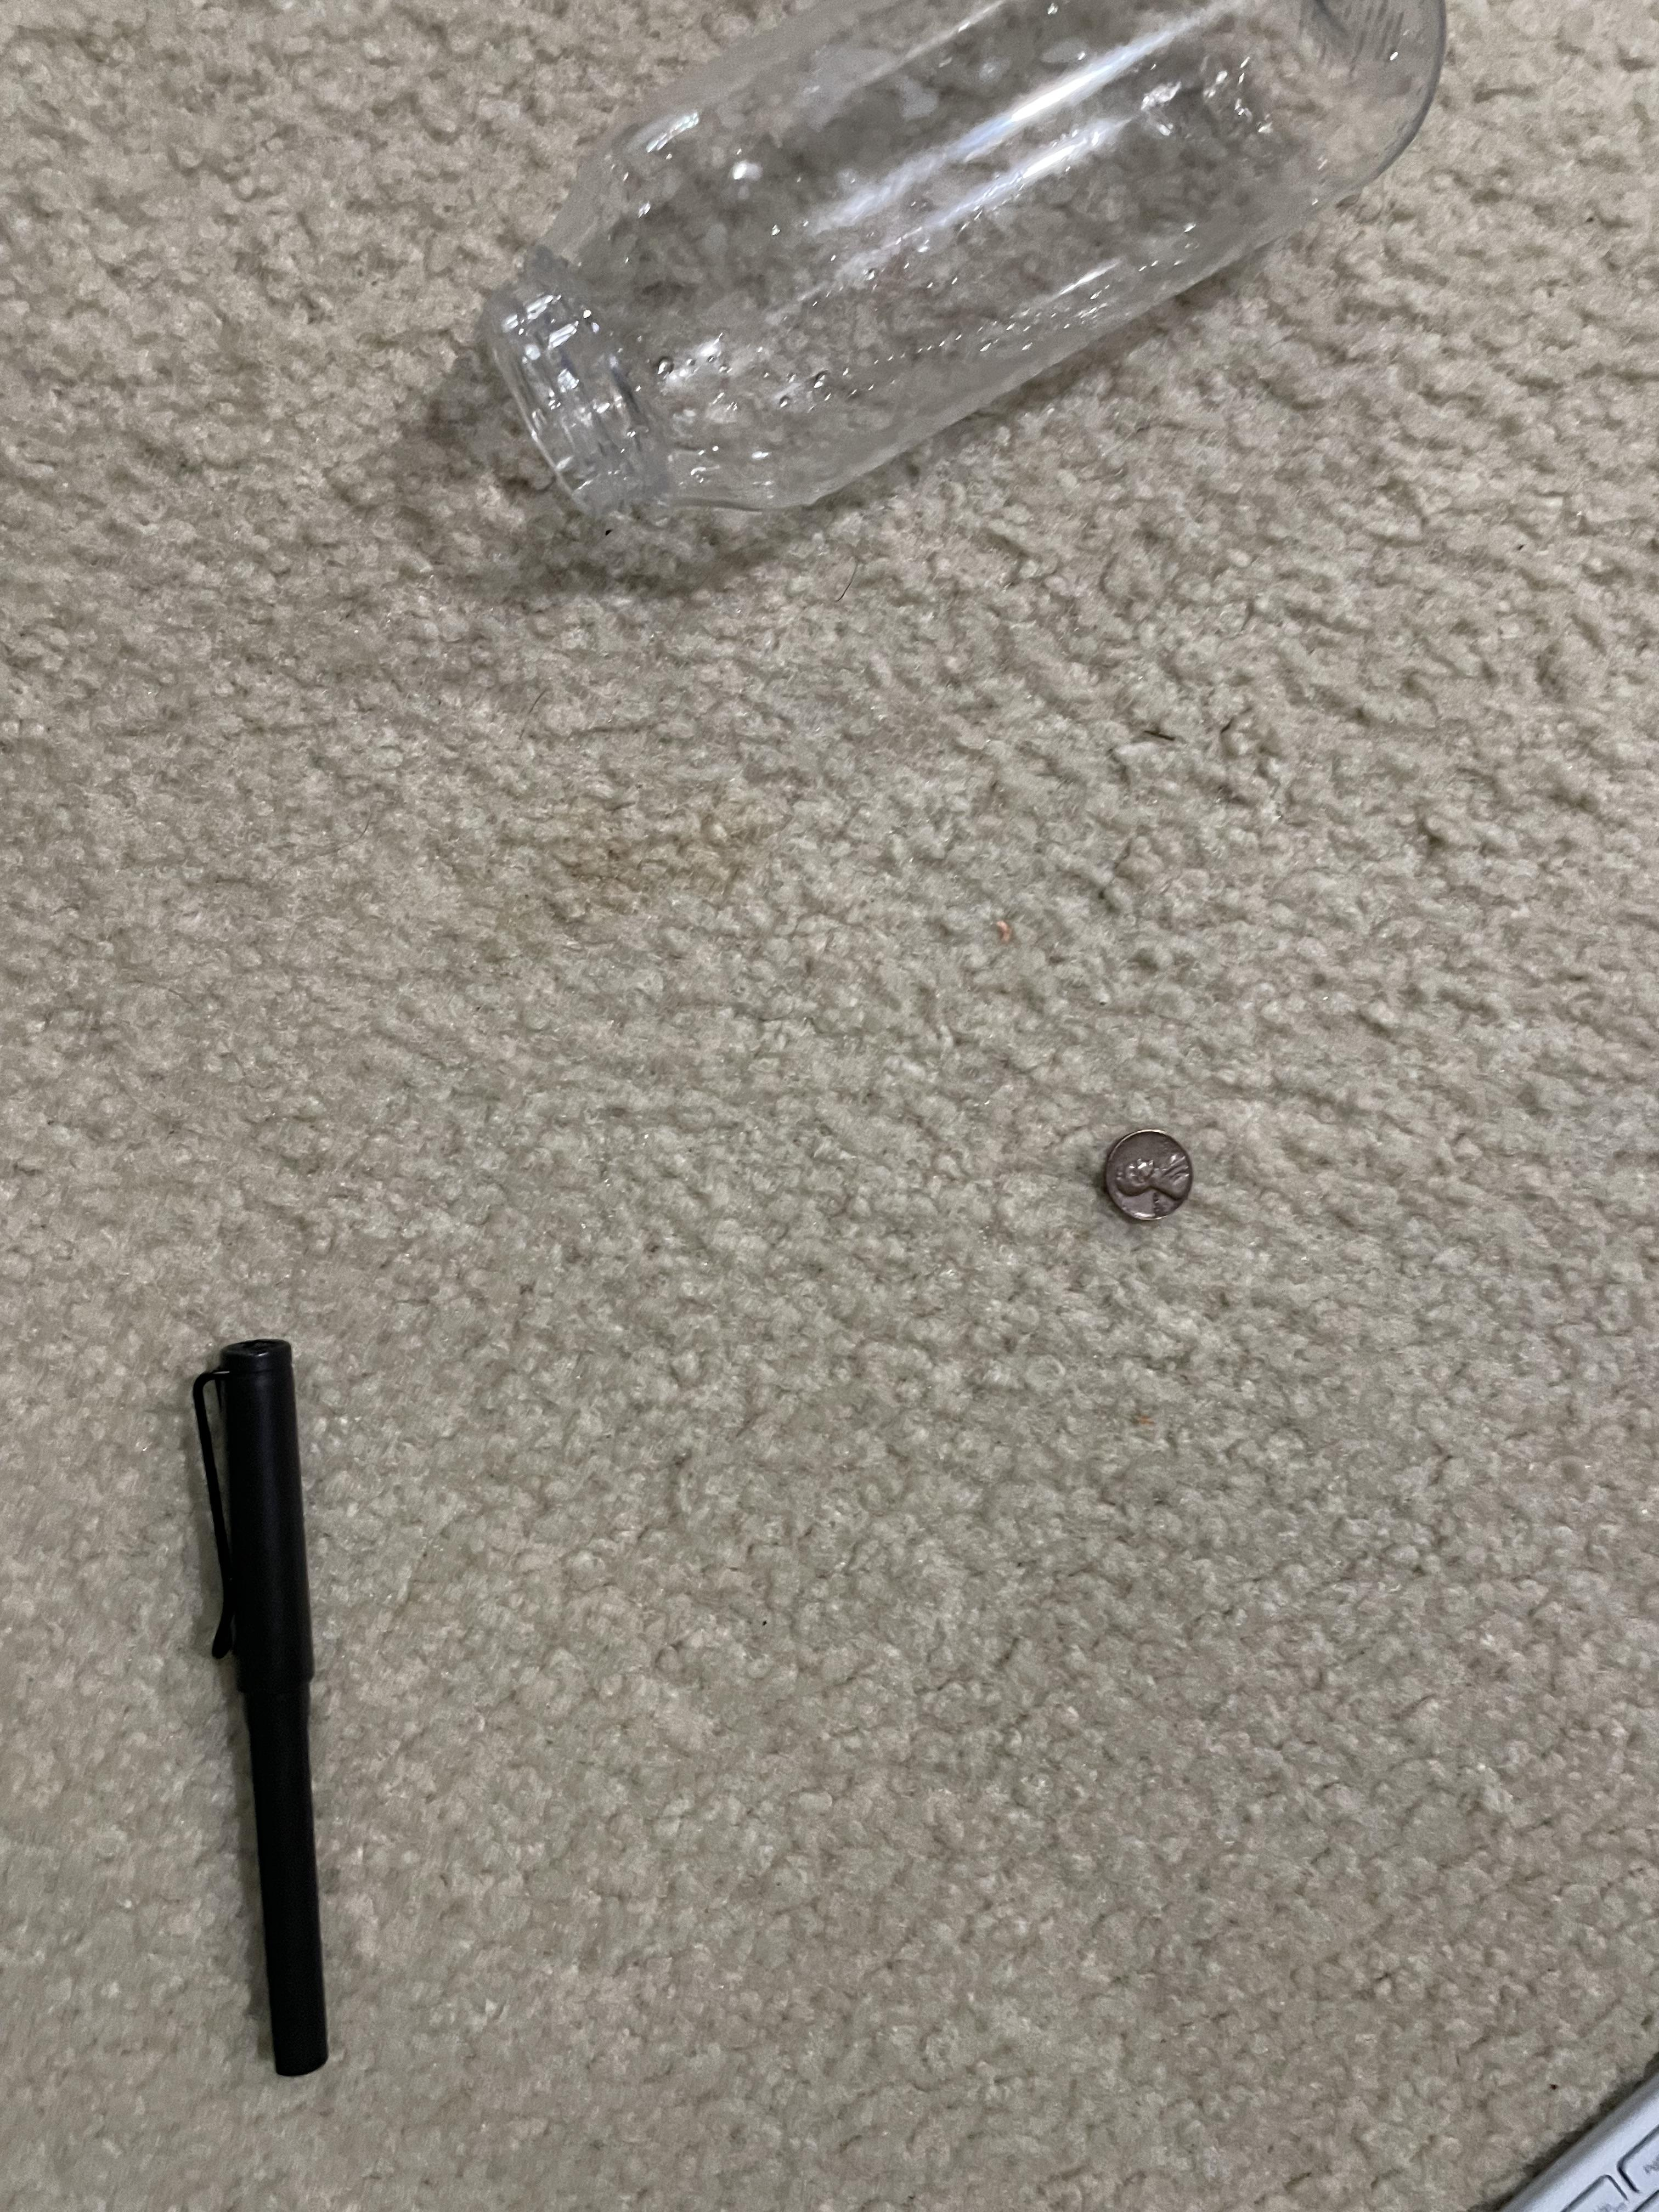Penny: (1091, 1108, 1206, 1240)
